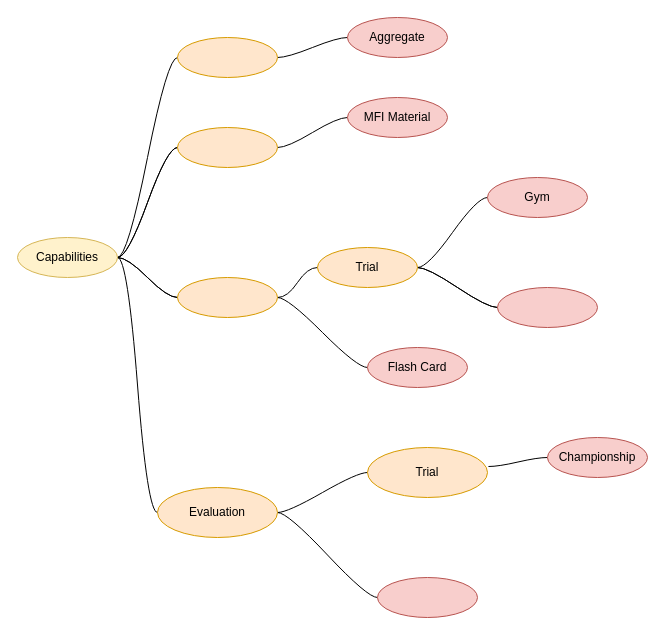
Image size: 665x635. Some labels were removed from this diagram. The shapes that lost their labels are listed below. From the top down, each one's centre as x and y in pixels, then its label:
At point (227, 57): "Organization".
At point (227, 147): "Learning".
At point (227, 297): "Practice".
At point (547, 307): "Playroom".
At point (427, 597): "Challenge".
